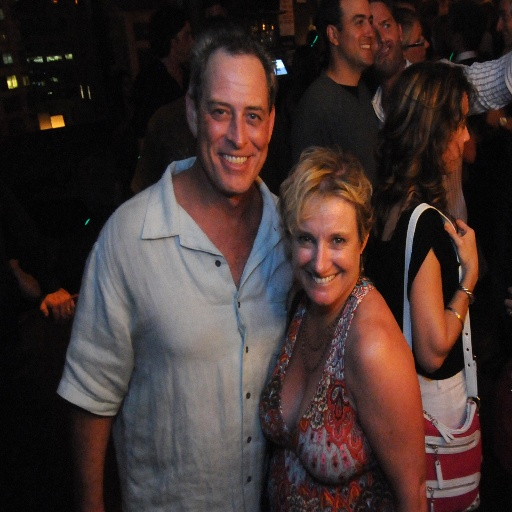hand: (446, 213, 482, 285), (39, 286, 77, 325)
